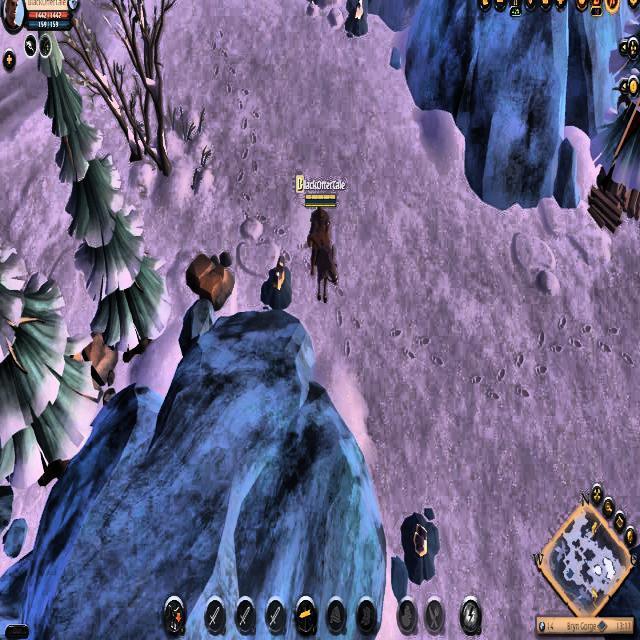copperore: (396, 503, 441, 588), (261, 256, 292, 300), (344, 0, 371, 36)
limestone: (66, 331, 122, 389), (184, 251, 233, 311)
